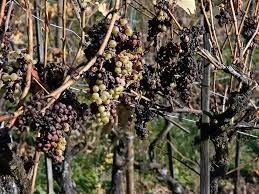Grape Rotten: (18, 14, 146, 164), (22, 93, 78, 164)
